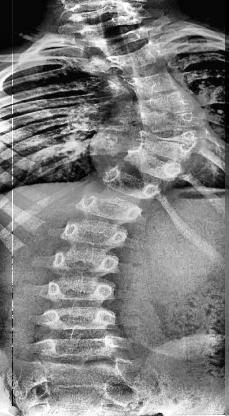Vertebrae: (34, 332, 126, 364), (121, 143, 186, 183), (58, 218, 132, 252), (75, 190, 148, 224), (42, 302, 119, 334), (42, 276, 124, 306), (95, 20, 171, 52), (45, 250, 121, 280), (98, 167, 164, 201), (134, 127, 198, 158), (109, 40, 173, 70), (121, 68, 187, 96), (136, 110, 206, 134), (130, 91, 198, 115), (75, 14, 146, 36), (66, 4, 136, 21)
